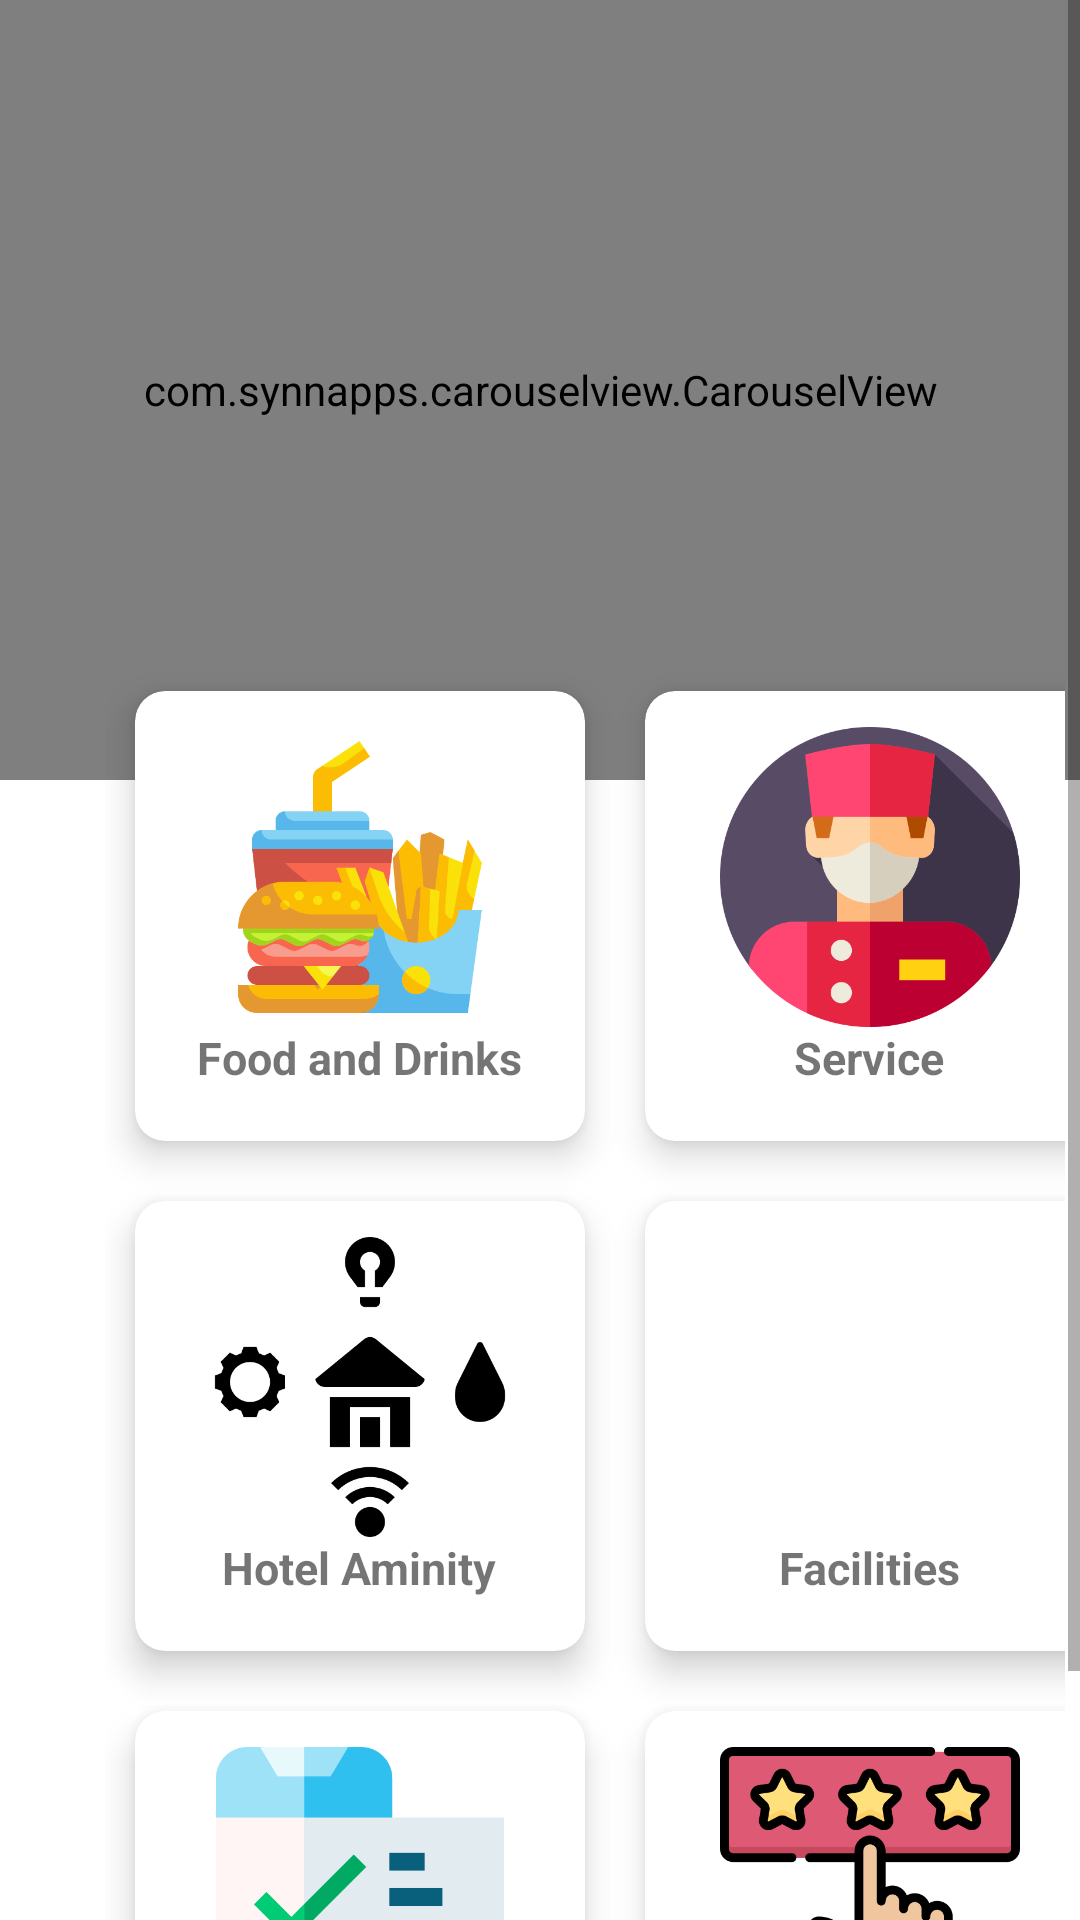

Where to tap for icons on this 1080 x 1920 app screen, as (x,y):
bellboy: (870,877)
fastfood: (360,877)
